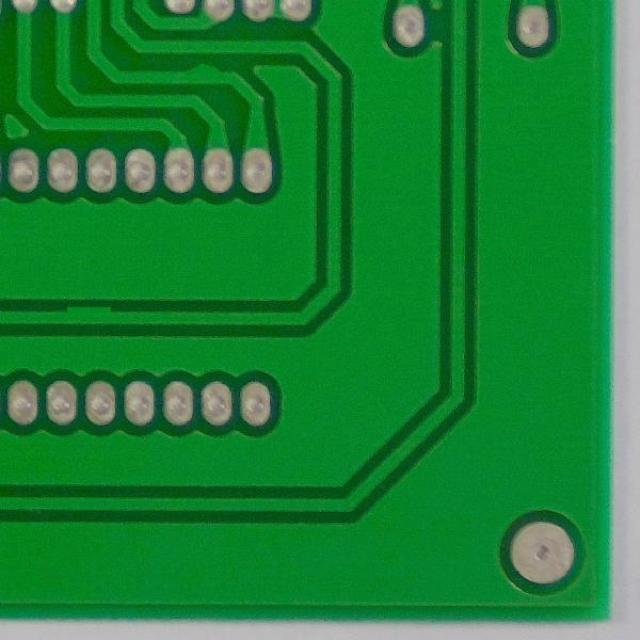spur: (56, 297, 120, 322), (184, 58, 225, 83)
